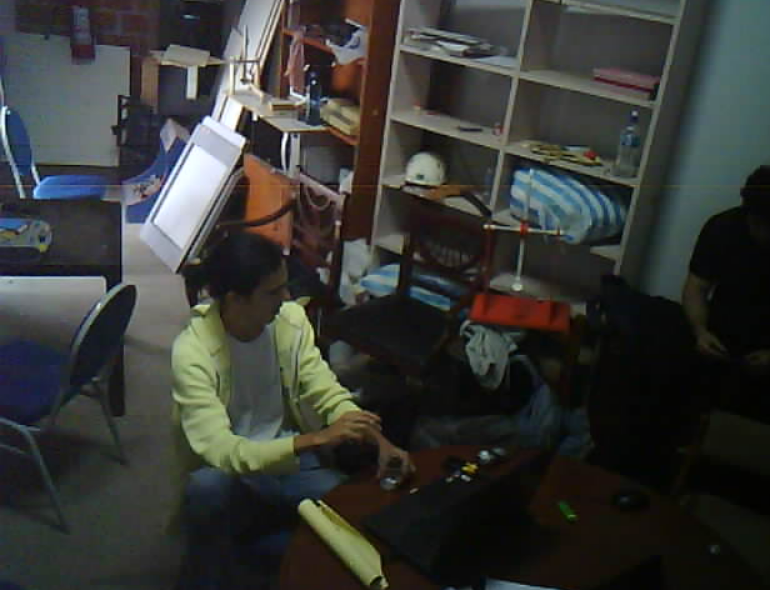person: (149, 216, 421, 590), (659, 144, 770, 479)
